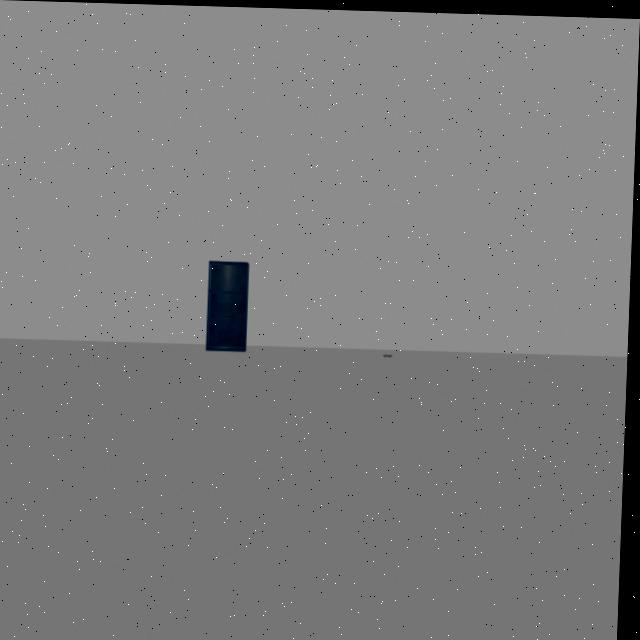bowl: (376, 342, 405, 366)
shelf: (199, 252, 263, 362)
